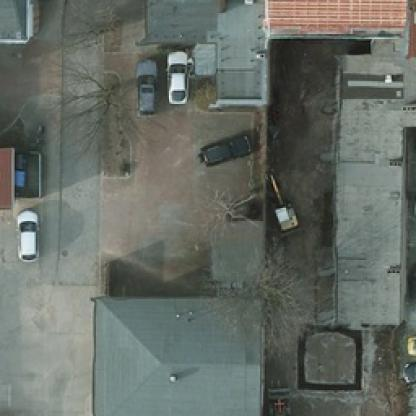car: (197, 132, 250, 164), (130, 62, 159, 117), (162, 48, 188, 102), (14, 208, 40, 262)
